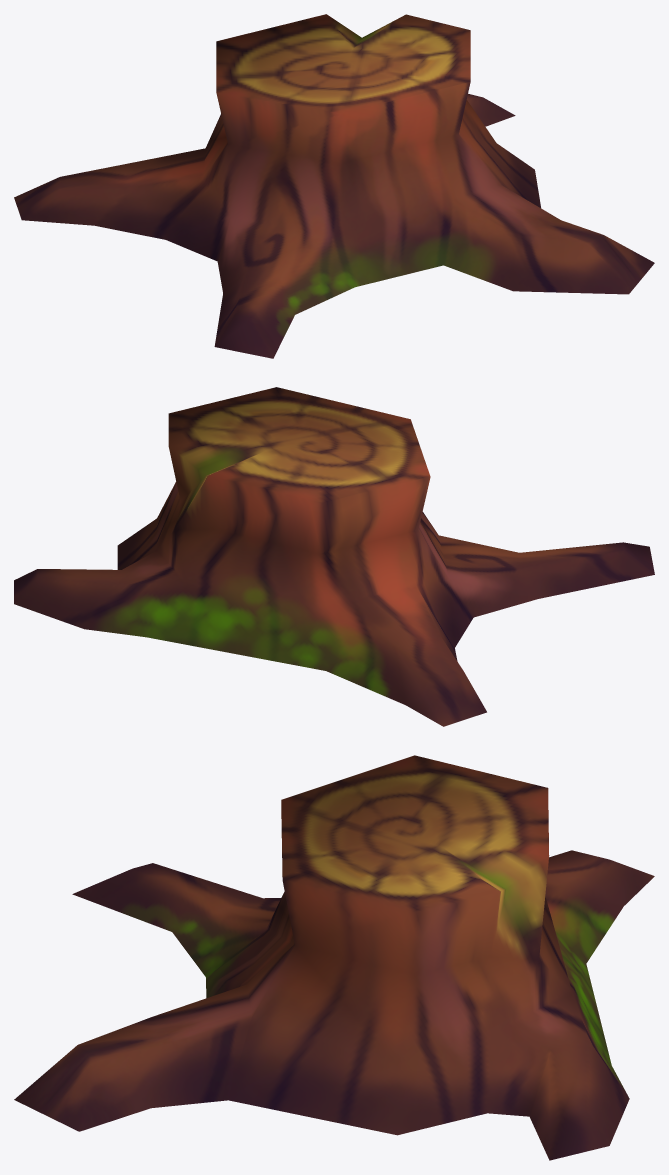
File: TreeStump.fbx
3 views of the same model, one above another, from view 1: azimuth 30°, elevation 25°; view 2: azimuth 150°, elevation 25°; view 3: azimuth 270°, elevation 25° (orthographic). The views are drawn at different scales.
Parts seen in each view (by area): view 1: TreeStump; view 2: TreeStump; view 3: TreeStump.
Boxes of the visible parts, bbox=[...] form: TreeStump: bbox=[14, 14, 654, 358]; TreeStump: bbox=[14, 387, 654, 726]; TreeStump: bbox=[14, 755, 654, 1160].
Size of the model in its own units: 2.17 by 0.6408 by 1.99.
